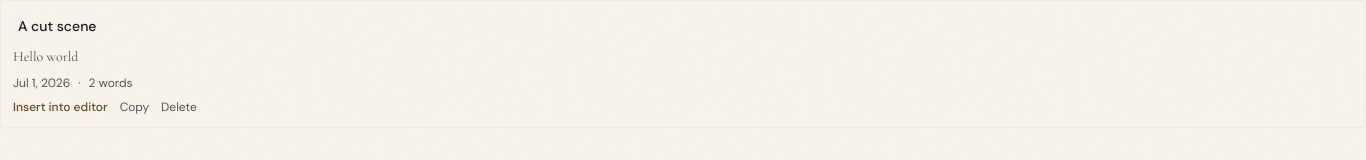
Test: OuttakeCard › does not clobber keystrokes typed while a failed rename is in flight (S5)
Replace the text in the field showing "A cut scene" with "First" at (683, 26), box [13,13,1353,39]
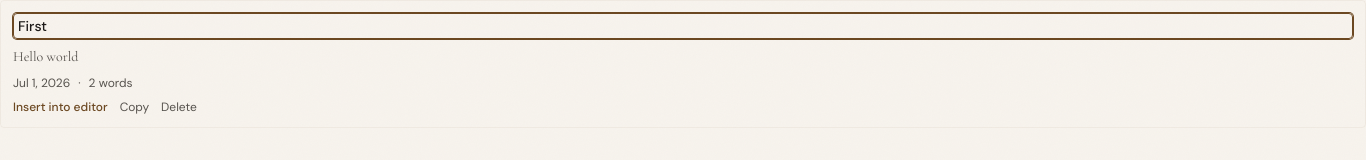
Press Tab
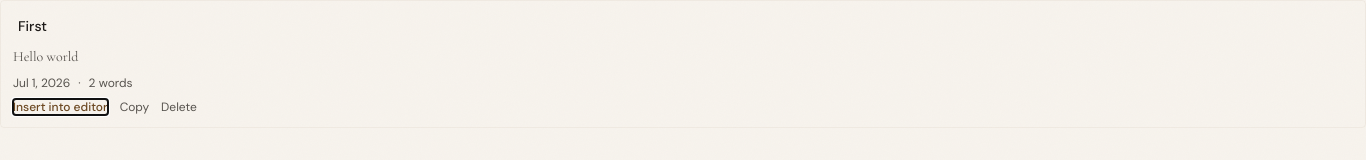
Type "-edited" into the field showing "A cut scene" at (683, 26), box [13,13,1353,39]
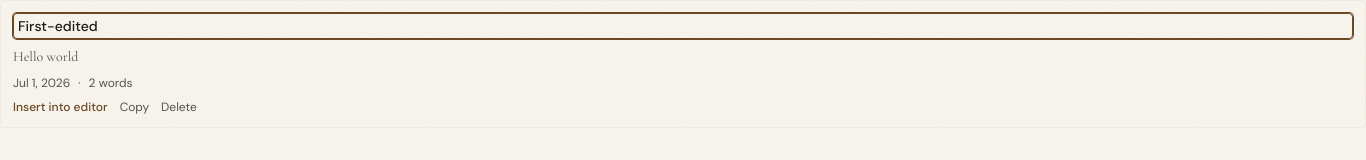
Expected: the field showing "First-edited" is shown, [13,13,1353,39]
